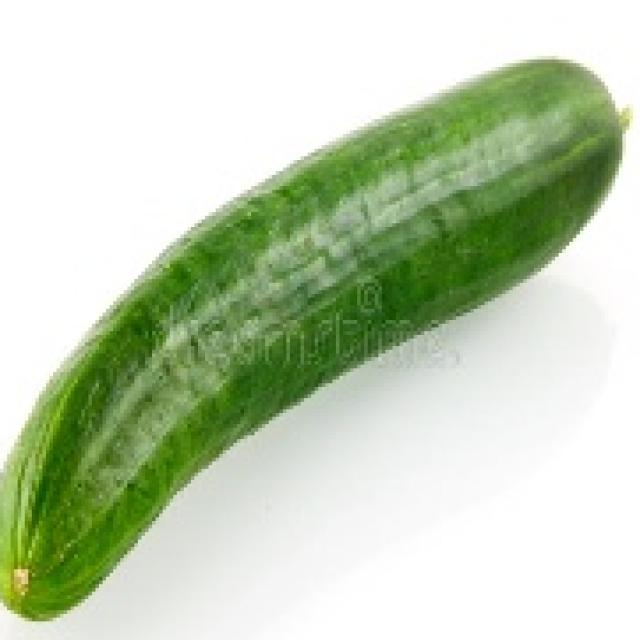cucumber: (0, 52, 629, 636)
